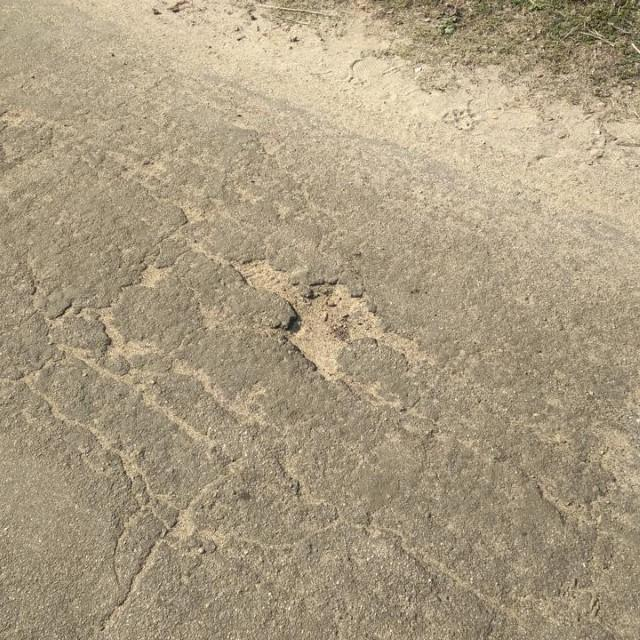Pothole: (227, 255, 439, 381)
